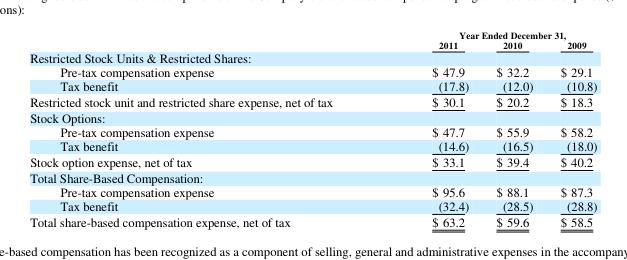table: (29, 29, 596, 228)
table column: (29, 29, 381, 228), (381, 29, 481, 228), (481, 29, 546, 228), (546, 29, 596, 228)
table column header: (29, 29, 596, 50)
table projected row header: (29, 50, 596, 65), (29, 110, 596, 125), (29, 169, 596, 184)
table row: (29, 93, 596, 110), (29, 153, 596, 169), (29, 50, 596, 65), (29, 78, 596, 93), (29, 110, 596, 125), (29, 138, 596, 153), (29, 169, 596, 184), (29, 198, 596, 213), (29, 213, 596, 228), (29, 184, 596, 198), (29, 65, 596, 78), (29, 125, 596, 138), (29, 39, 596, 50), (29, 29, 596, 39)
table spanning cell: (381, 29, 596, 39)
